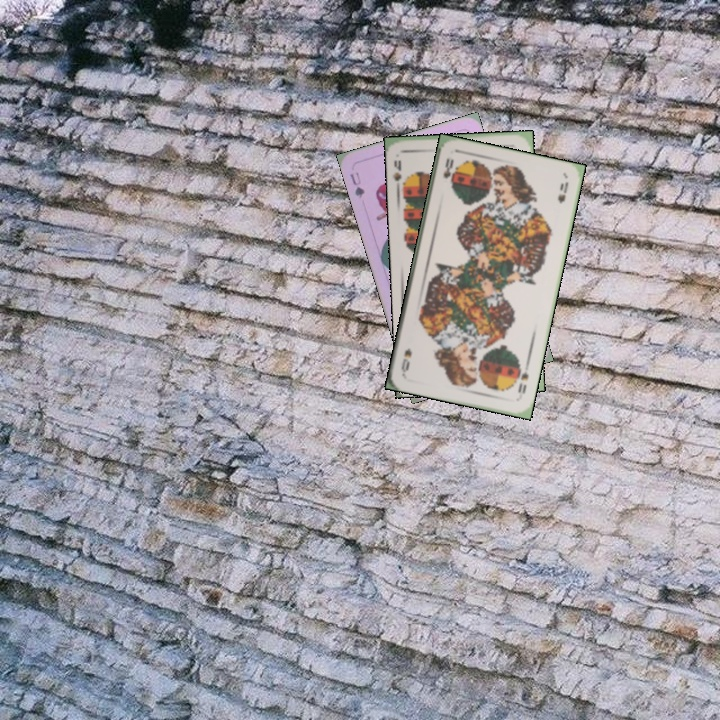GU: (346, 168, 367, 201)
S9: (389, 156, 409, 192)
SO: (439, 154, 456, 186), (514, 367, 531, 396)
